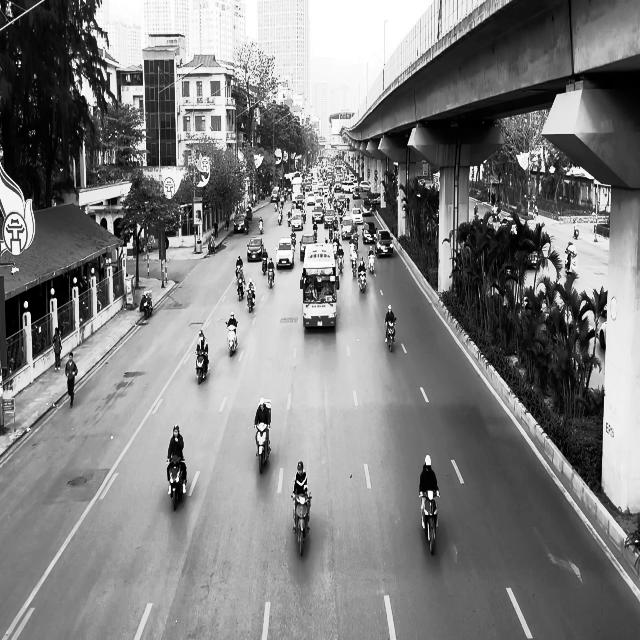bus: (300, 242, 337, 328)
car: (275, 237, 294, 268), (374, 230, 394, 257), (246, 236, 264, 262), (300, 233, 314, 260), (362, 222, 377, 244), (341, 217, 355, 240), (233, 214, 249, 234)
motorbike: (419, 490, 439, 554), (291, 492, 311, 556), (166, 456, 187, 511), (254, 423, 270, 474), (195, 348, 210, 384), (225, 321, 238, 356), (385, 319, 396, 352), (142, 290, 153, 318), (357, 267, 366, 292), (247, 287, 256, 312), (367, 254, 375, 274), (237, 278, 244, 300), (268, 266, 274, 288), (262, 258, 267, 274)
